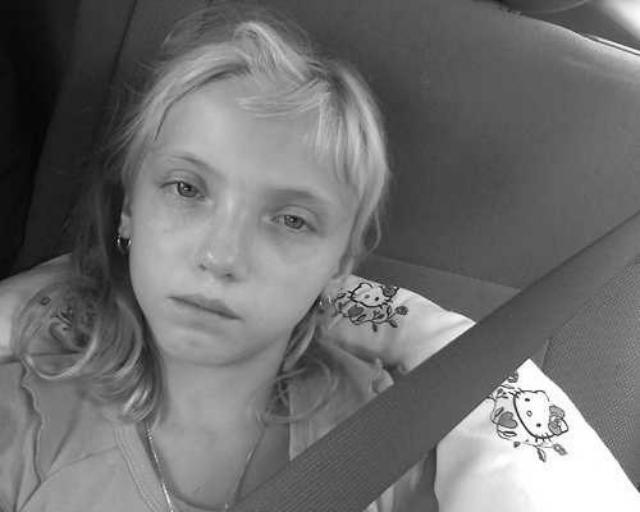SafeDriving: (148, 156, 216, 214), (253, 190, 328, 242)
Seatbelt: (220, 202, 640, 512)
